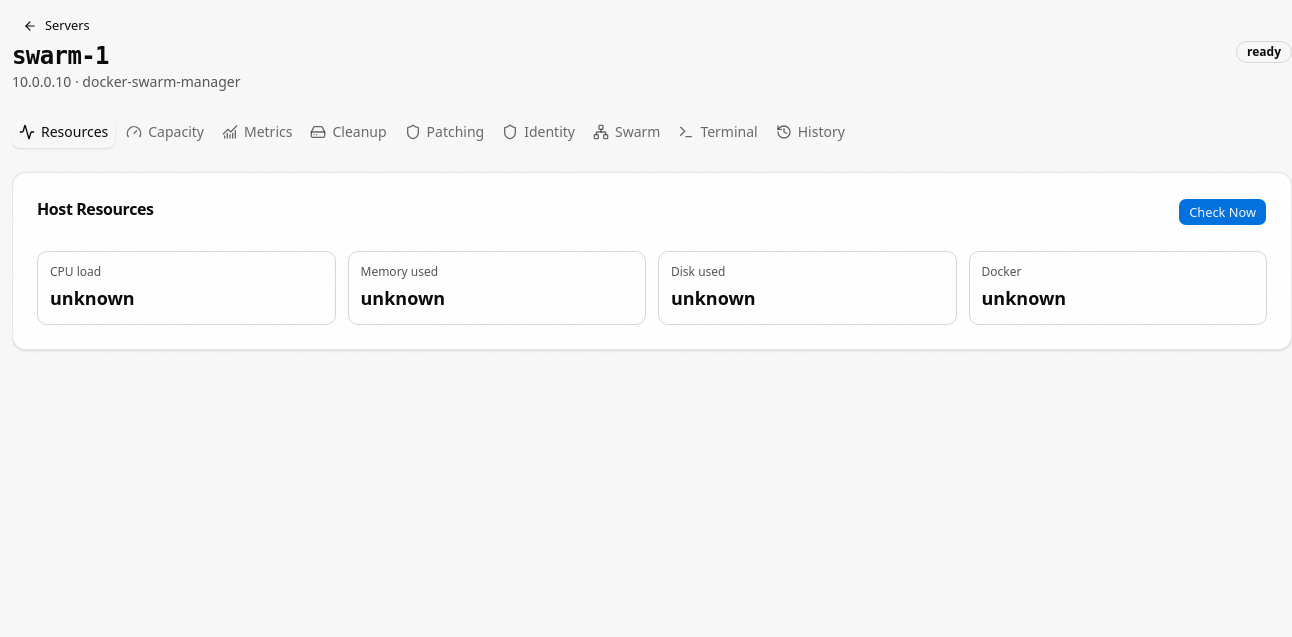
ServerDetailPage › shows Swarm operations for Swarm managers
What coordinates should you click on to do the following:
click the tab "Swarm"
I would click on:
 (627, 132)
Its box is x1=586 y1=116 x2=667 y2=148.
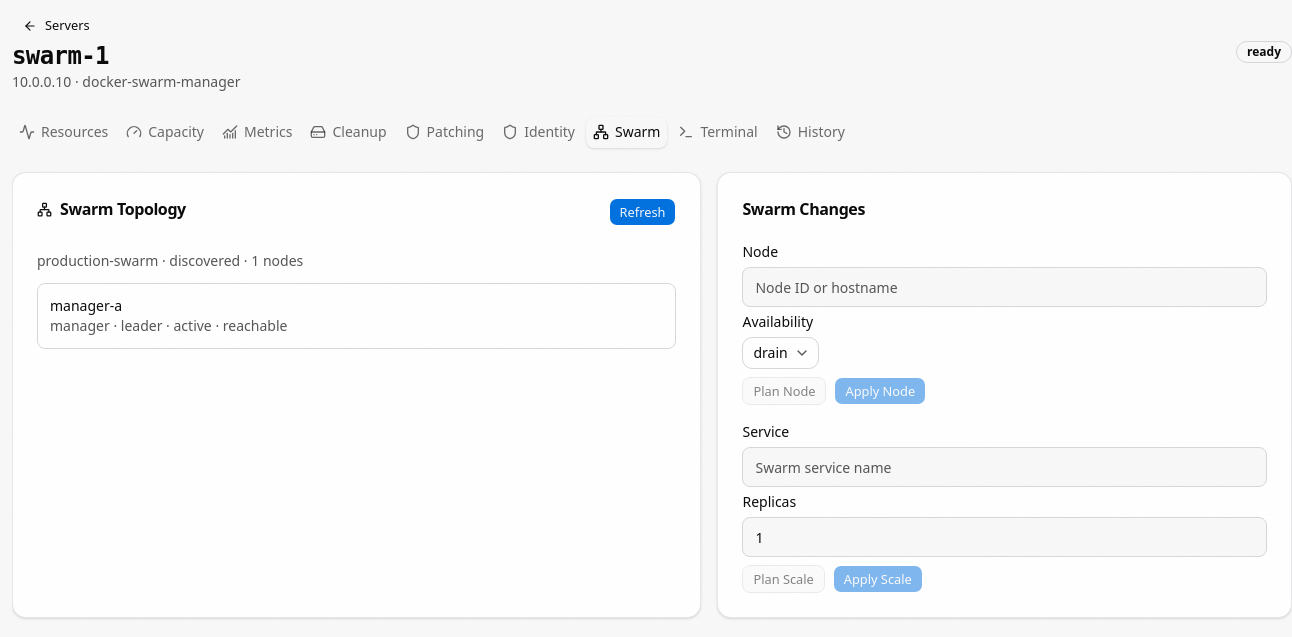
Result: the text "production-swarm · discovered · 1 nodes" is shown at x1=37 y1=251 x2=303 y2=270
Result: the text "manager · leader · active · reachable" is shown at x1=50 y1=316 x2=287 y2=335
